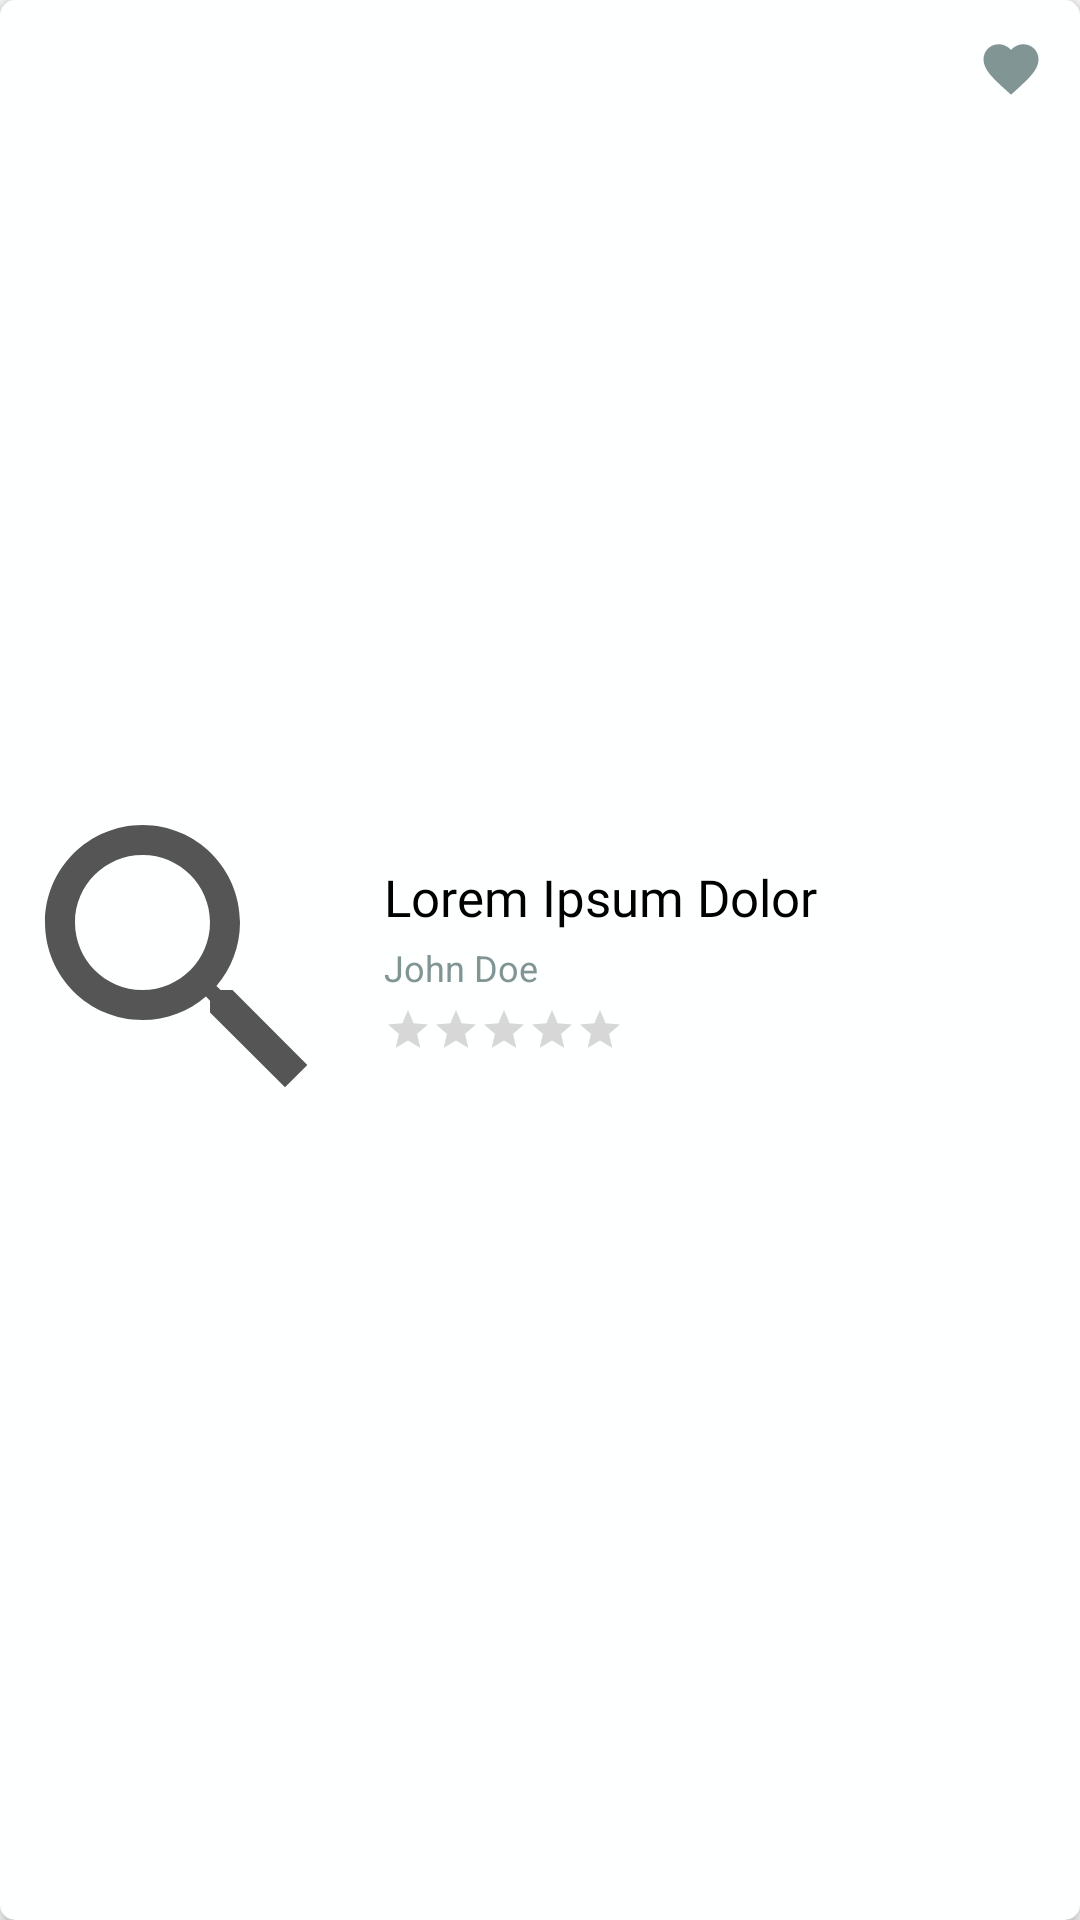

Icons on this 1080x1920 Android screen, each with its box as {"left": x1, "top": y1, "right": x2, "bottom": y2}:
favorite: {"left": 983, "top": 44, "right": 1039, "bottom": 95}
